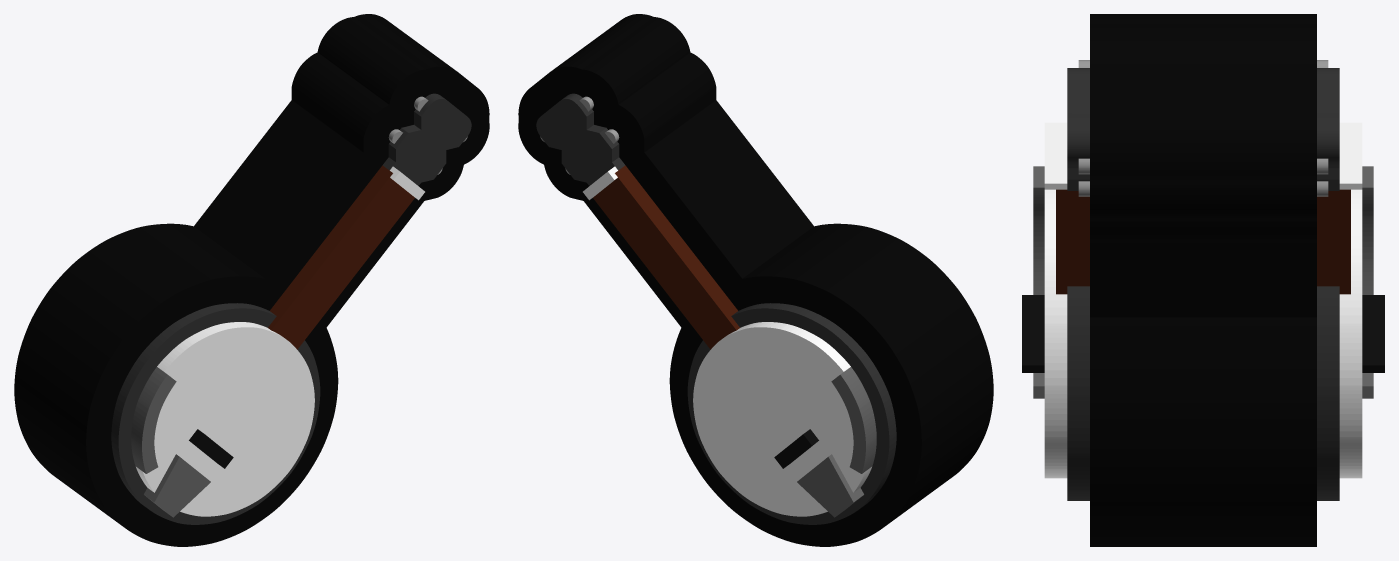
3 renders of one model, left to right at view 1: azimuth 30°, elevation 25°; view 2: azimuth 150°, elevation 25°; view 3: azimuth 270°, elevation 25°, orthographic. The views are drawn at different scales.
Visible parts, largest first — view 1: U+1FA95_layer00_obj00, U+1FA95_layer04_obj00, U+1FA95_layer02_obj00, U+1FA95_layer03_obj00, U+1FA95_layer05_obj00, U+1FA95_layer06_obj00; view 2: U+1FA95_layer00_obj00, U+1FA95_layer04_obj00, U+1FA95_layer02_obj00, U+1FA95_layer03_obj00, U+1FA95_layer05_obj00, U+1FA95_layer06_obj00; view 3: U+1FA95_layer00_obj00, U+1FA95_layer02_obj00, U+1FA95_layer04_obj00, U+1FA95_layer03_obj00, U+1FA95_layer05_obj00, U+1FA95_layer06_obj00, U+1FA95_layer01_obj00.
Boxes of the visible parts, x1=… form: U+1FA95_layer00_obj00: x1=14, y1=14, x2=489, y2=546; U+1FA95_layer04_obj00: x1=136, y1=166, x2=424, y2=516; U+1FA95_layer02_obj00: x1=111, y1=93, x2=471, y2=524; U+1FA95_layer03_obj00: x1=268, y1=165, x2=414, y2=349; U+1FA95_layer05_obj00: x1=131, y1=367, x2=210, y2=517; U+1FA95_layer06_obj00: x1=189, y1=429, x2=233, y2=468; U+1FA95_layer00_obj00: x1=518, y1=14, x2=993, y2=546; U+1FA95_layer04_obj00: x1=583, y1=166, x2=871, y2=516; U+1FA95_layer02_obj00: x1=536, y1=93, x2=896, y2=524; U+1FA95_layer03_obj00: x1=593, y1=165, x2=739, y2=349; U+1FA95_layer05_obj00: x1=797, y1=367, x2=876, y2=517; U+1FA95_layer06_obj00: x1=774, y1=429, x2=818, y2=468; U+1FA95_layer00_obj00: x1=1090, y1=14, x2=1316, y2=546; U+1FA95_layer02_obj00: x1=1067, y1=68, x2=1339, y2=500; U+1FA95_layer04_obj00: x1=1044, y1=122, x2=1362, y2=478; U+1FA95_layer03_obj00: x1=1056, y1=189, x2=1350, y2=294; U+1FA95_layer05_obj00: x1=1033, y1=166, x2=1373, y2=398; U+1FA95_layer06_obj00: x1=1022, y1=295, x2=1384, y2=372; U+1FA95_layer01_obj00: x1=1078, y1=60, x2=1328, y2=196.
Size of the model in its own units: 0.6491 by 0.649 by 0.32.
